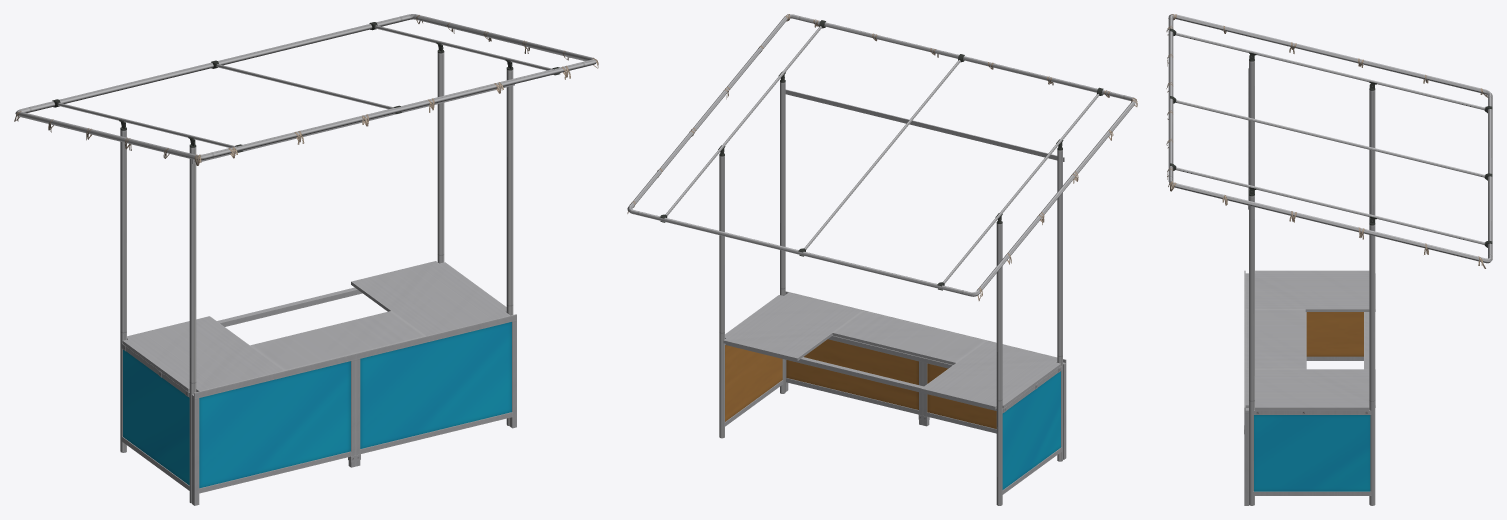
The model's file is jsf_4P_s02_c02_t04.fbx.
The picture shows the model from 3 angles, left to right: view 1: azimuth 30°, elevation 25°; view 2: azimuth 150°, elevation 25°; view 3: azimuth 270°, elevation 25°; orthographic projection. The views are drawn at different scales.
Parts seen in each view (by area): view 1: Base_s02_c02, Table_4P_s02_t04, Pillar4_s02, Rope_4P_s02; view 2: Base_s02_c02, Table_4P_s02_t04, Pillar4_s02, Rope_4P_s02; view 3: Pillar4_s02, Table_4P_s02_t04, Base_s02_c02, Rope_4P_s02.
Boxes of the visible parts, bbox=[...] form: Base_s02_c02: bbox=[121, 314, 516, 505]; Table_4P_s02_t04: bbox=[122, 261, 509, 396]; Pillar4_s02: bbox=[15, 14, 596, 503]; Rope_4P_s02: bbox=[14, 15, 598, 165]; Base_s02_c02: bbox=[725, 291, 1066, 494]; Table_4P_s02_t04: bbox=[723, 292, 1061, 412]; Pillar4_s02: bbox=[627, 14, 1136, 505]; Rope_4P_s02: bbox=[627, 14, 1137, 300]; Pillar4_s02: bbox=[1168, 14, 1492, 505]; Table_4P_s02_t04: bbox=[1245, 270, 1375, 414]; Base_s02_c02: bbox=[1244, 270, 1371, 505]; Rope_4P_s02: bbox=[1166, 14, 1487, 268].
Bounding box in the file's own units: 264 × 243 × 211.
